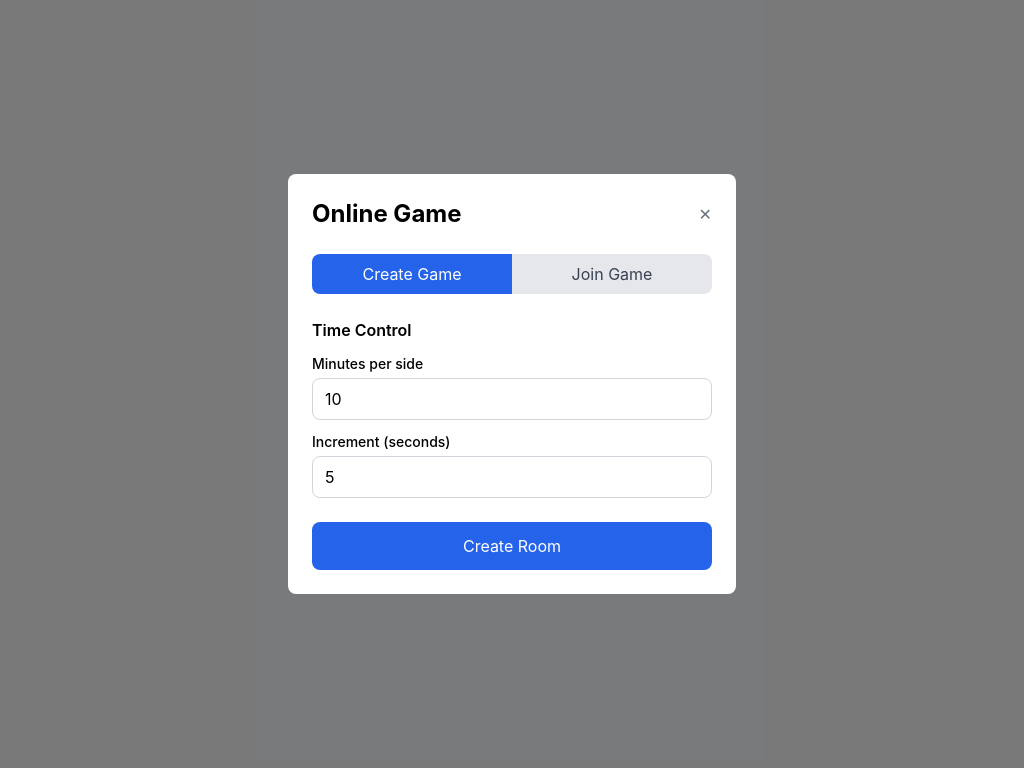
it: OnlineGameModal Component › should switch between create and join modes
Check: the heading "Time Control" is shown, box [312,320,412,340]
Note: Click join button
Click the button "Join Game". click: (612, 274)
box: [512,254,712,294]
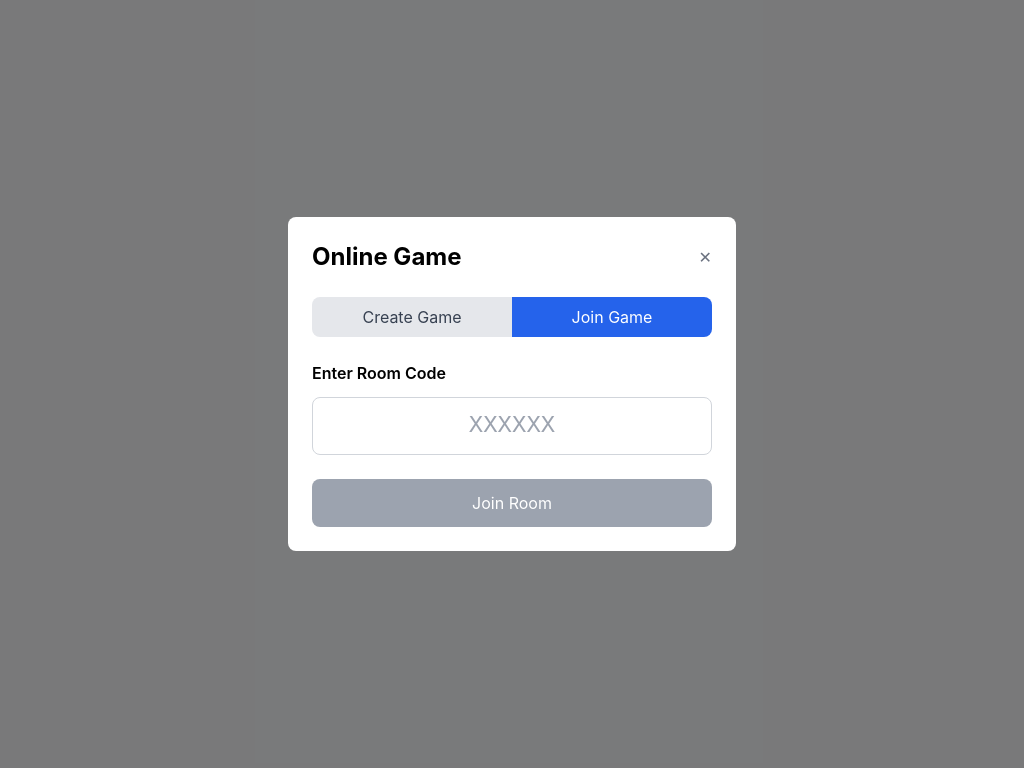
Check: the heading "Enter Room Code" is shown, box [312,363,446,383]
Check: the heading "Time Control" is gone
Note: Click create button
Click the button "Create Game". click: (412, 317)
box: [312,297,512,337]
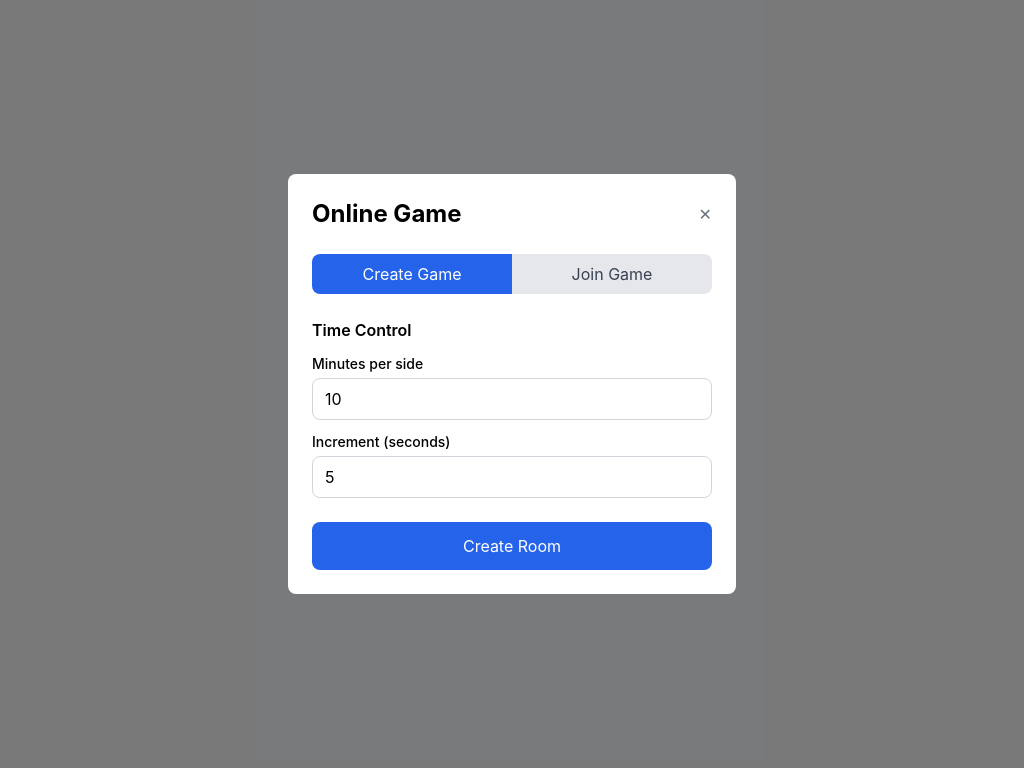
Check: the heading "Time Control" is shown, box [312,320,412,340]
